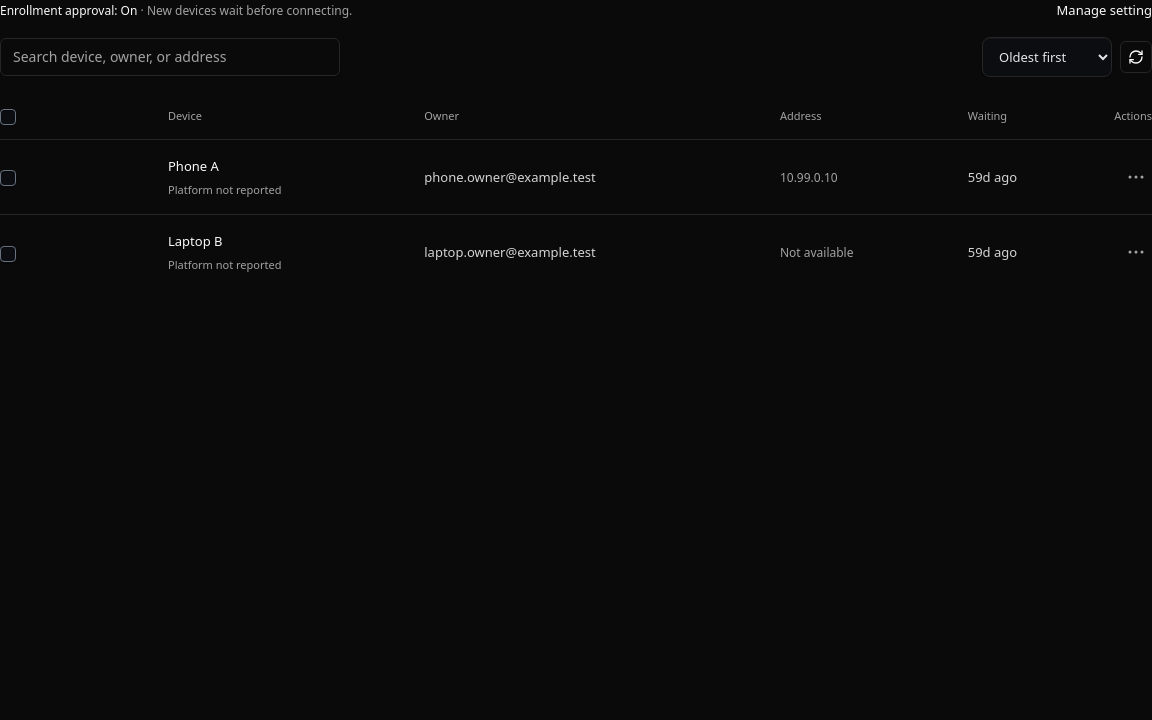
Test: DeviceApprovalSection confirmation › mutates only confirmed targets and reports partial failure with recovery
Click the checkbox named "Select Phone A": x=8, y=178 x1=0 y1=170 x2=16 y2=186
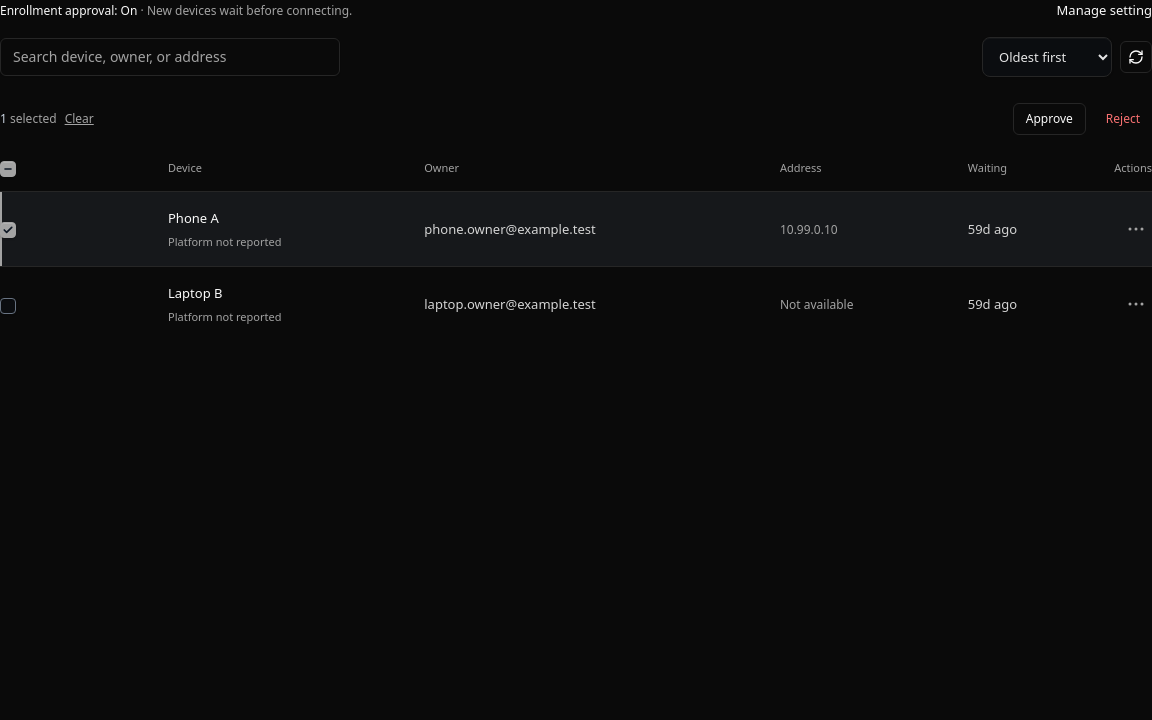
Click the checkbox named "Select Laptop B": x=8, y=306 x1=0 y1=298 x2=16 y2=314
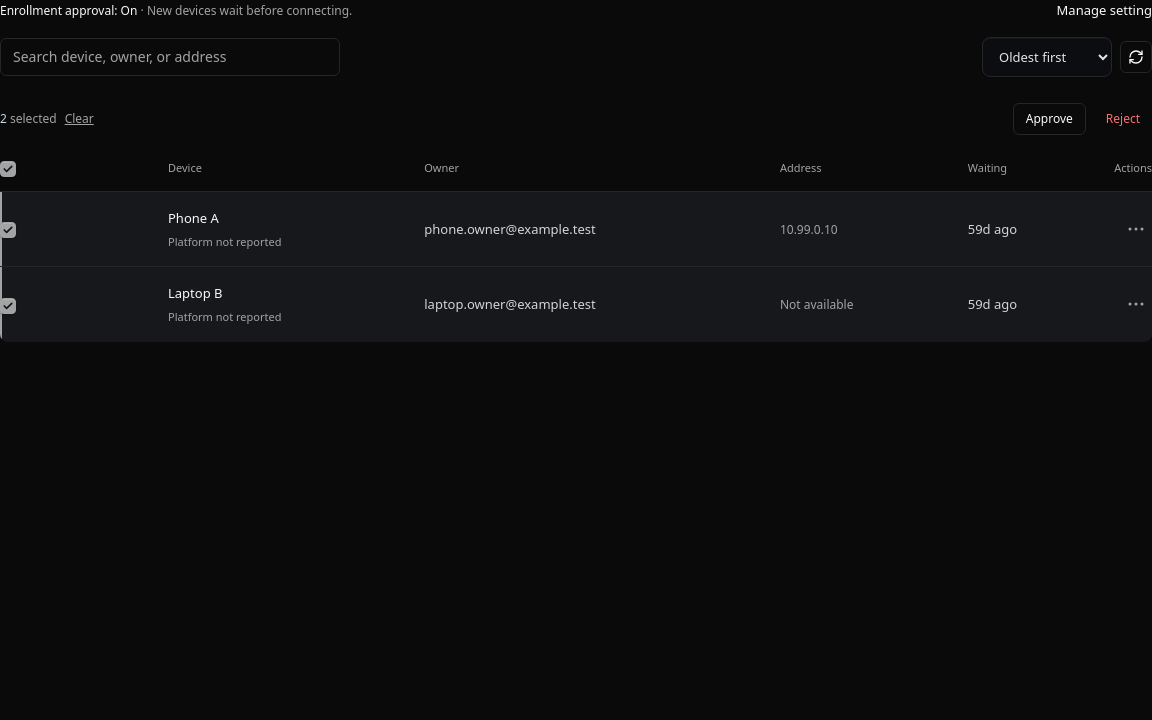
Click the button "Reject": x=1123, y=119 x1=1094 y1=103 x2=1151 y2=135
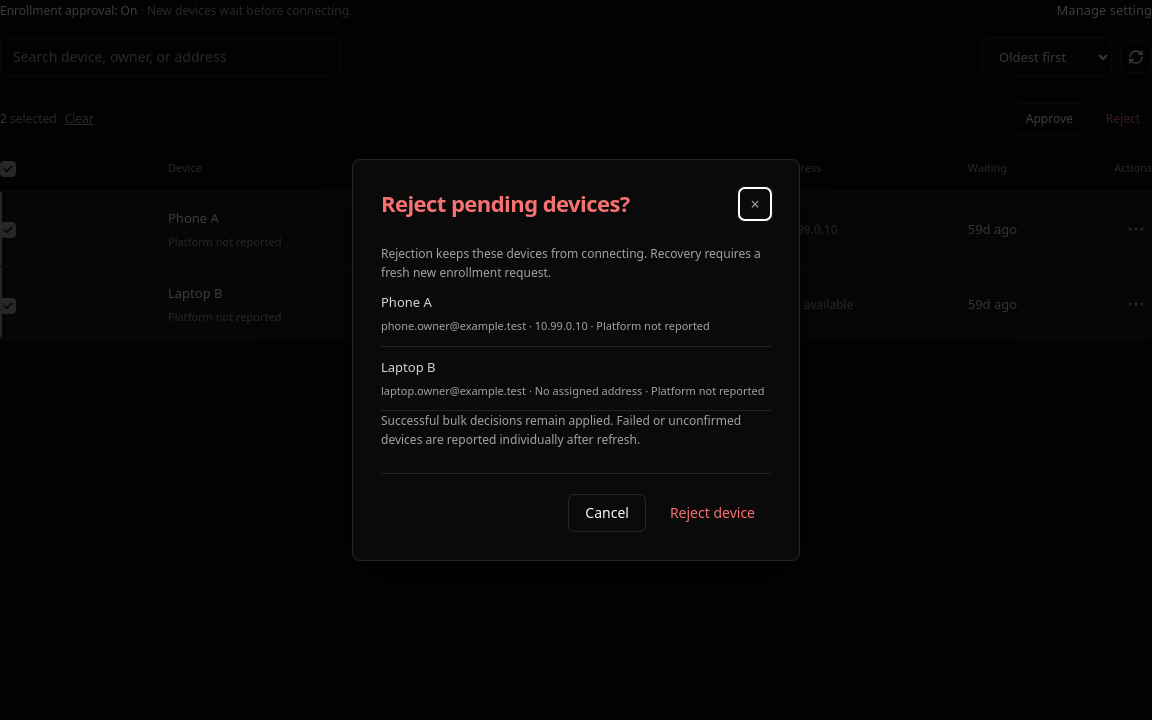
Now the dialog shows "new enrollment request", box x1=381 y1=244 x2=761 y2=281
Click the button "Reject device": x=712, y=514 x1=654 y1=494 x2=771 y2=532
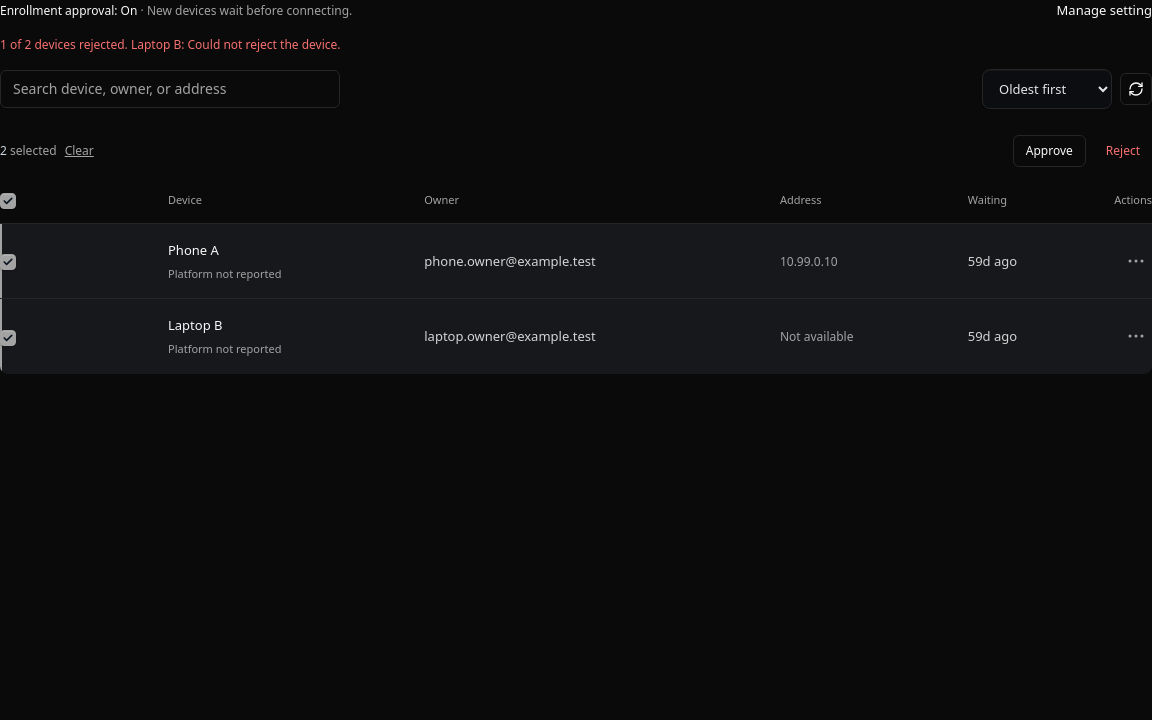
Now the text "1 of 2 devices rejected. Laptop B: Could not reject the device." is shown, box x1=0 y1=36 x2=341 y2=53
